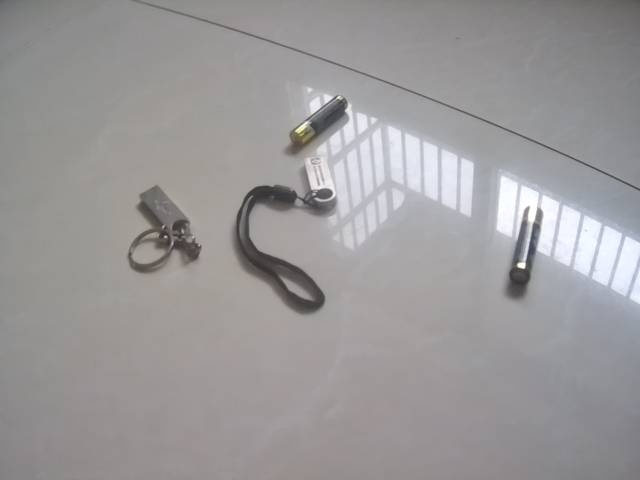U-disk: (237, 152, 347, 250), (125, 177, 206, 283)
battery: (281, 89, 357, 148), (504, 201, 548, 292)
